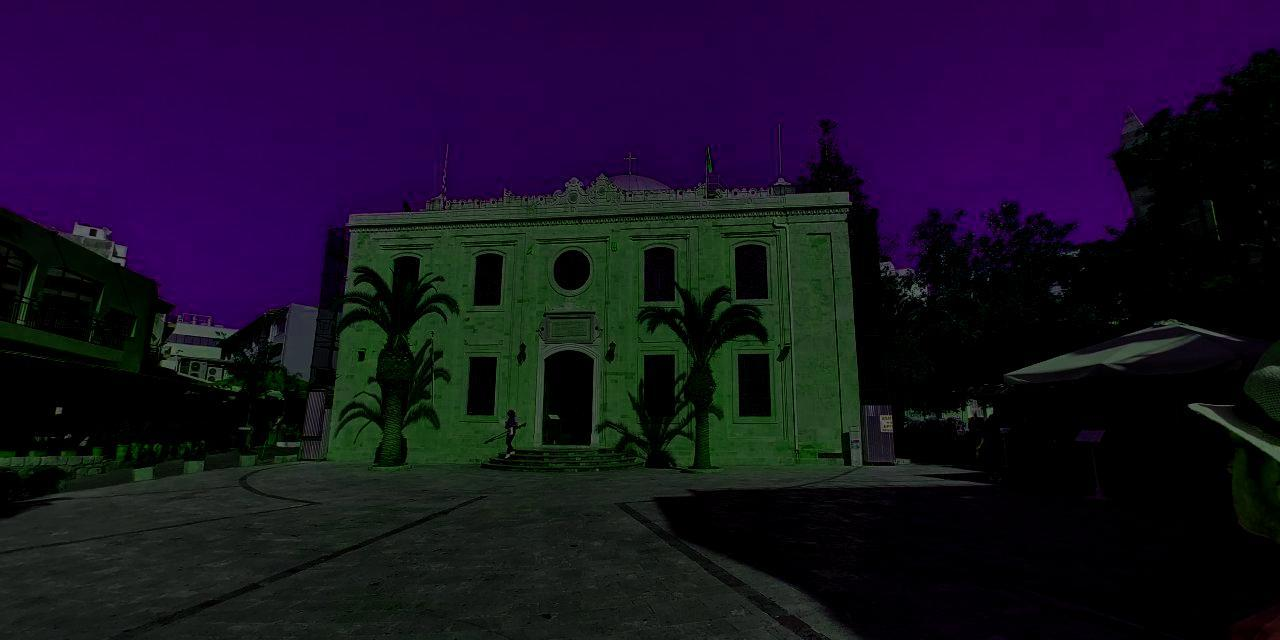Agios Titos: (343, 181, 868, 477)
